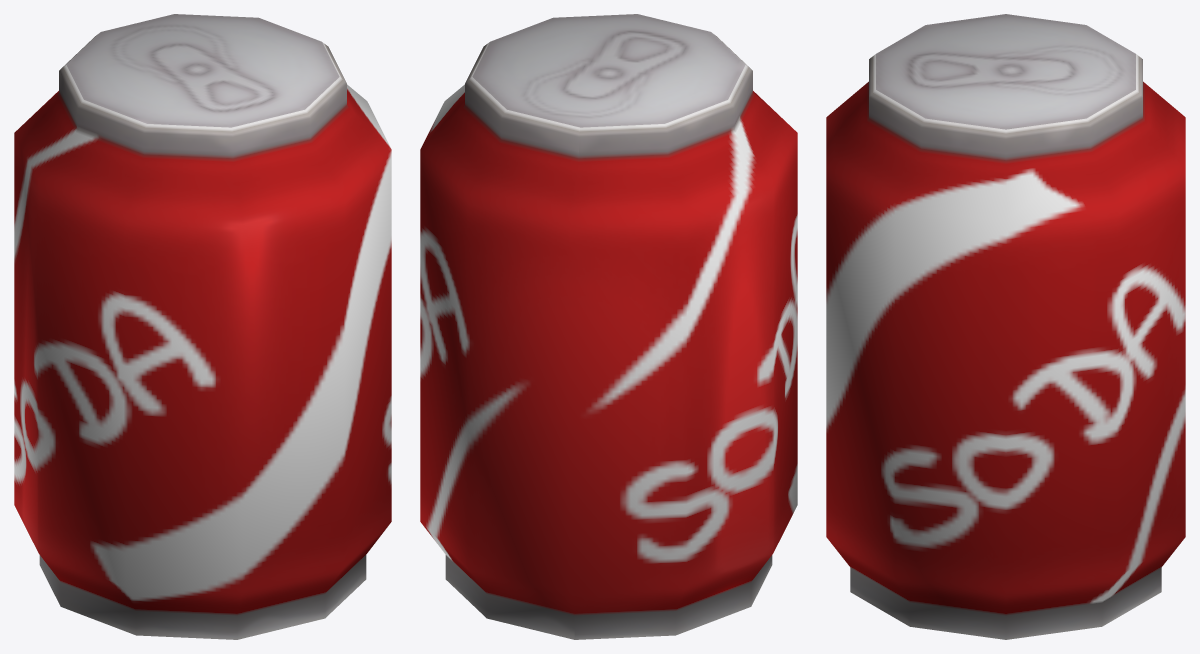
The model's file is CafeFood01_8.FBX.
3 renders of one model, left to right at view 1: azimuth 30°, elevation 25°; view 2: azimuth 150°, elevation 25°; view 3: azimuth 270°, elevation 25°, orthographic.
Parts seen in each view (by area): view 1: CafeFood01_8; view 2: CafeFood01_8; view 3: CafeFood01_8.
Boxes of the visible parts, x1,y1,x2,y2 form: CafeFood01_8: [14, 14, 391, 639]; CafeFood01_8: [420, 14, 797, 639]; CafeFood01_8: [826, 14, 1185, 639].
Size of what is drawn, in the model's own units: 0.1094 by 0.1594 by 0.104.
